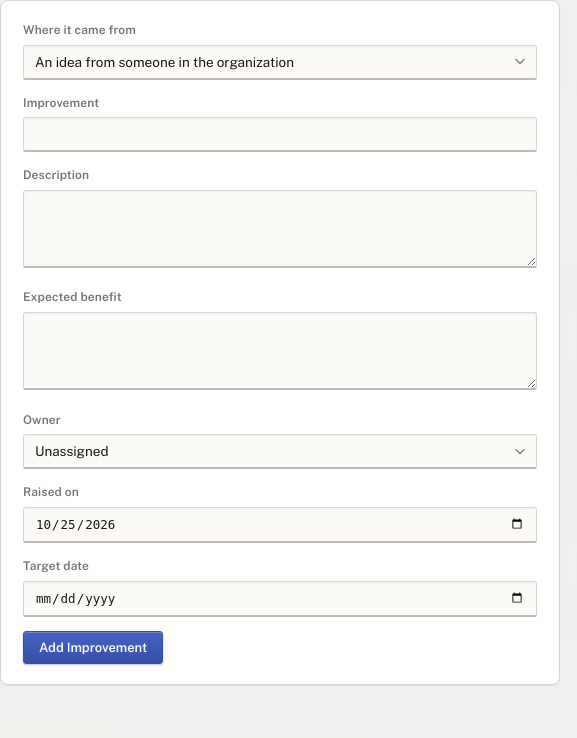
Test: ImprovementForm › refuses a target before it was raised
The width and height of the screenshot is (577, 738).
Type "Backwards" into the field labelled "Improvement".
click(280, 135); type("Backwards")  # box [23,117,537,152]
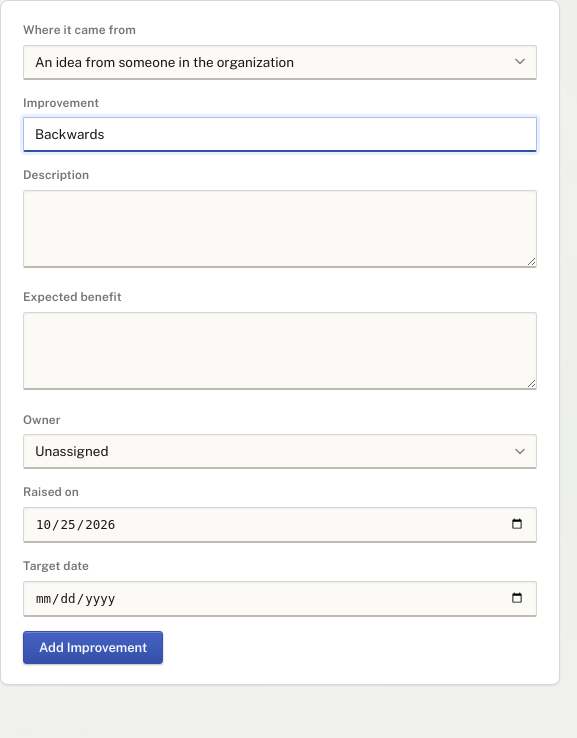
Type "2026-06-10" into the date field labelled "Raised on".
click(280, 525); type("2026-06-10")  # box [23,507,537,543]
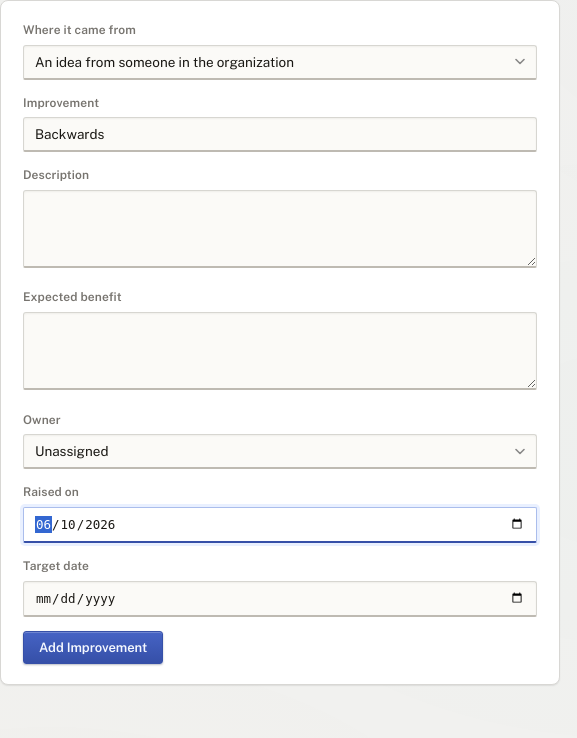
Type "2026-06-01" into the date field labelled "Target date".
click(280, 598); type("2026-06-01")  # box [23,580,537,616]
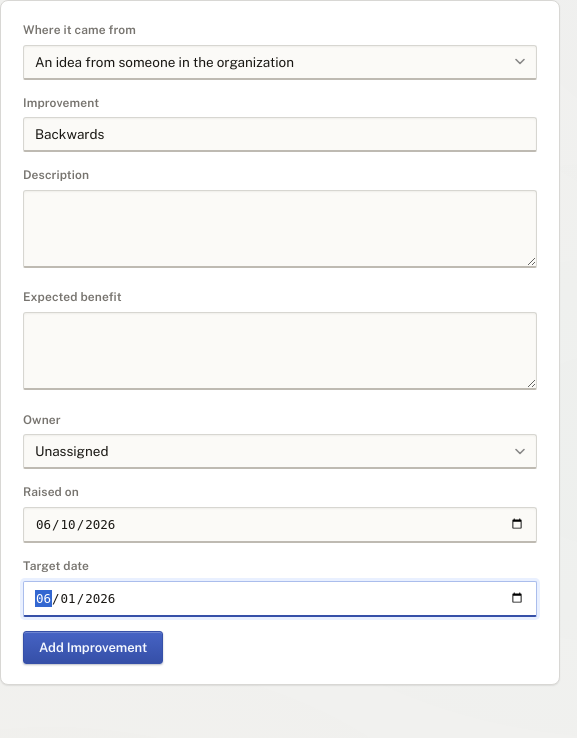
Click the button "Add Improvement".
click(93, 647)  # box [23,630,163,664]
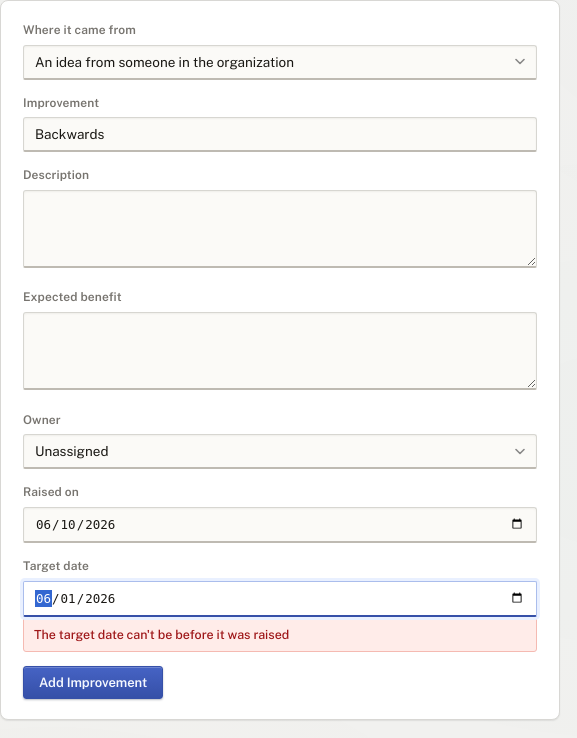
expect the text "The target date can't be before it was raised" is shown: met, box [23,616,537,652]
